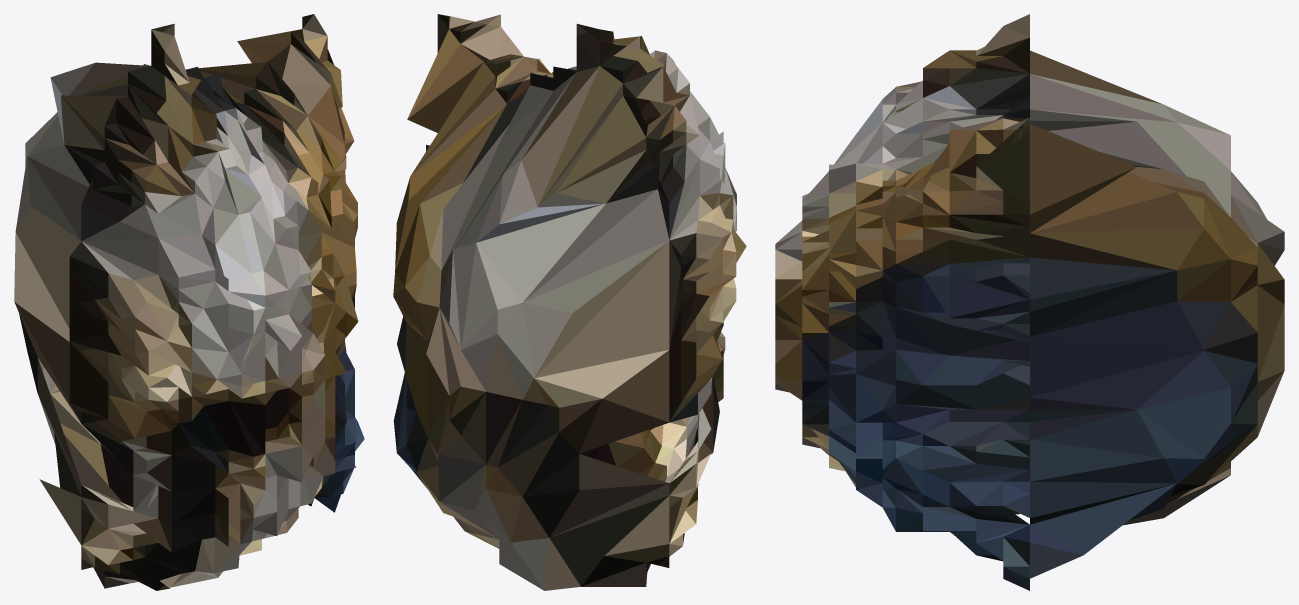
Rendered from B07_5_valkyrie_winged_helm.obj.
3 views of the same model, side by side, from view 1: azimuth 30°, elevation 25°; view 2: azimuth 150°, elevation 25°; view 3: azimuth 270°, elevation 25° (orthographic).
Visible parts, largest first — view 1: B07_5_valkyrie_winged_helm; view 2: B07_5_valkyrie_winged_helm; view 3: B07_5_valkyrie_winged_helm.
Boxes of the visible parts, bbox=[...] form: B07_5_valkyrie_winged_helm: bbox=[14, 14, 364, 590]; B07_5_valkyrie_winged_helm: bbox=[393, 14, 746, 590]; B07_5_valkyrie_winged_helm: bbox=[775, 14, 1284, 590].
Size of the model in its own units: 22 by 45 by 38.
